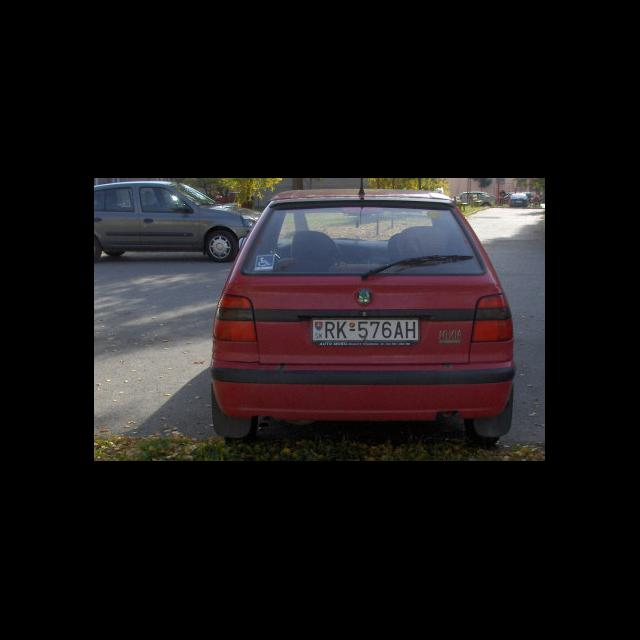Plate: (309, 316, 422, 346)
